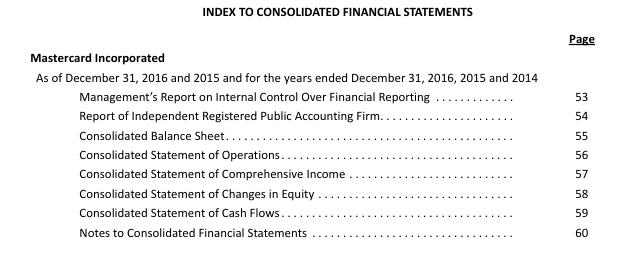table: (29, 29, 594, 239)
table column: (29, 29, 498, 239), (498, 29, 594, 239)
table column header: (29, 29, 594, 47)
table projected row header: (29, 47, 594, 66), (29, 66, 594, 85)
table row: (29, 85, 594, 105), (29, 143, 594, 163), (29, 182, 594, 202), (29, 47, 594, 66), (29, 66, 594, 85), (29, 105, 594, 124), (29, 124, 594, 143), (29, 163, 594, 182), (29, 202, 594, 221), (29, 29, 594, 47), (29, 221, 594, 239)
